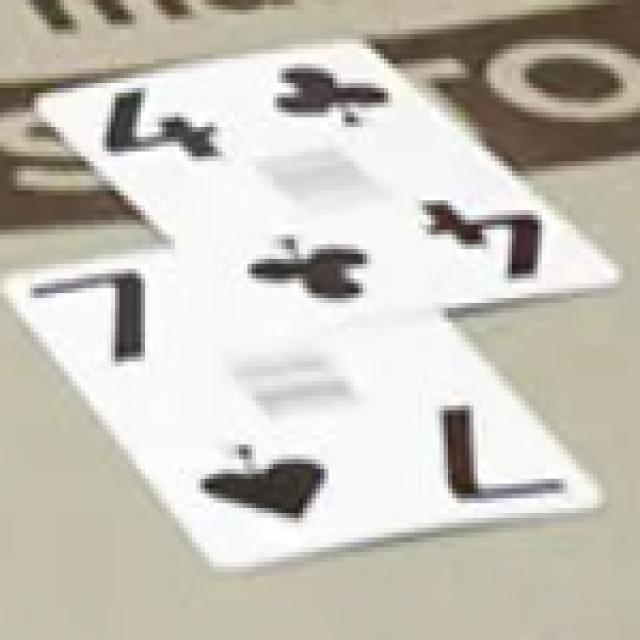Card-4: (35, 34, 623, 347)
Card-7: (4, 250, 606, 570)
